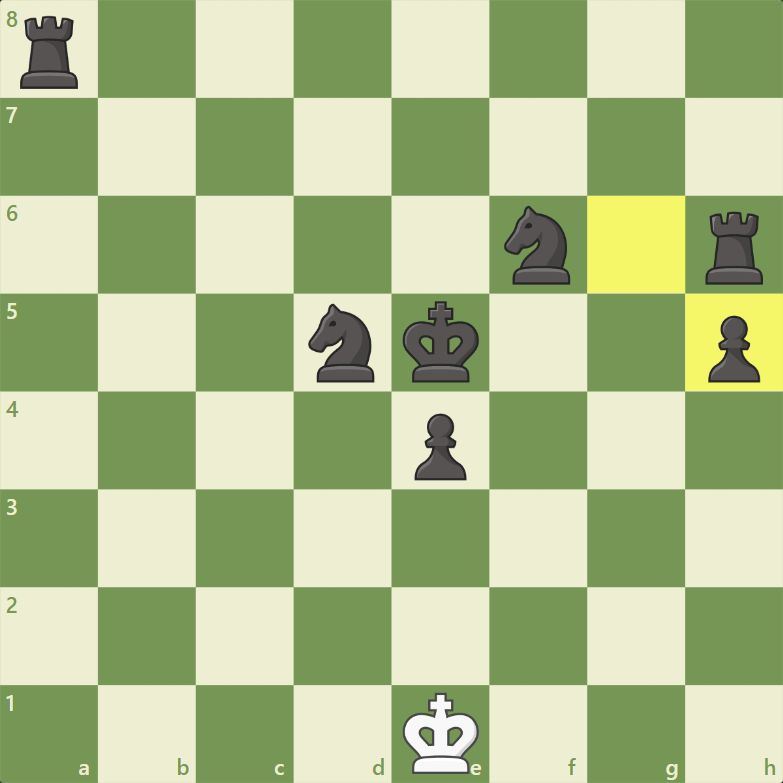K: (400, 689, 481, 777)
k: (400, 299, 482, 386)
n: (502, 204, 577, 289), (307, 301, 379, 387)
p: (411, 410, 469, 485), (706, 312, 764, 387)
r: (703, 209, 767, 290), (18, 12, 81, 93)
